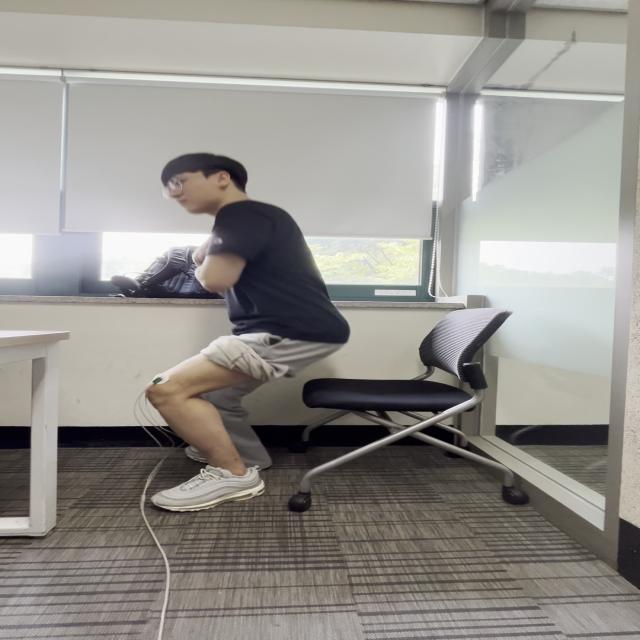stand: (119, 324, 300, 522), (208, 201, 354, 371), (204, 304, 366, 408)
